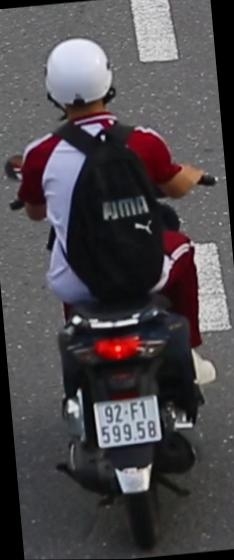LP: (92, 390, 166, 452)
helmet: (38, 30, 121, 135)
